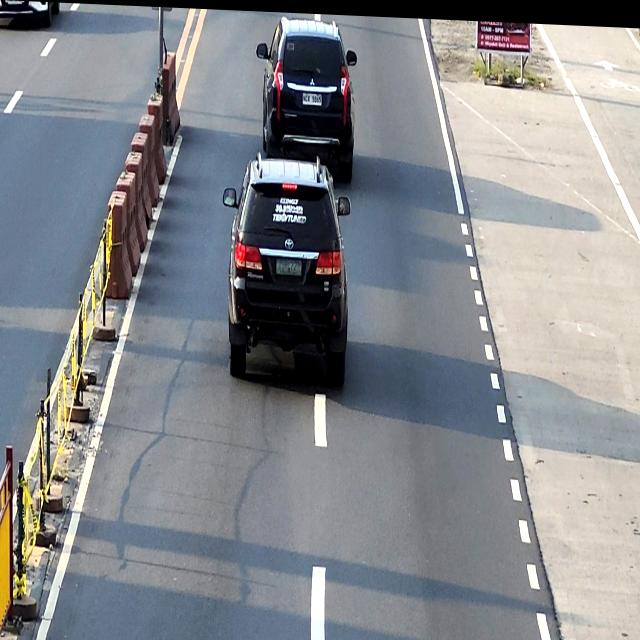Car: (222, 152, 352, 386), (258, 12, 358, 181)
License-Plate: (276, 257, 302, 274), (302, 91, 322, 103)
